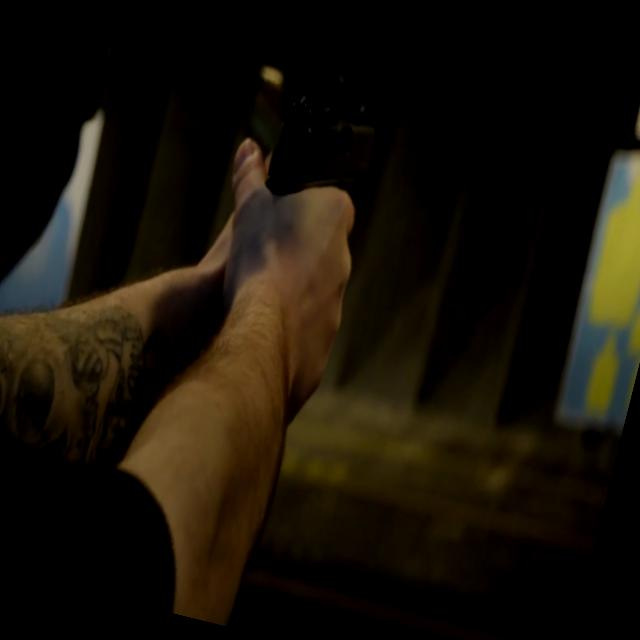handgun: (246, 60, 399, 252)
